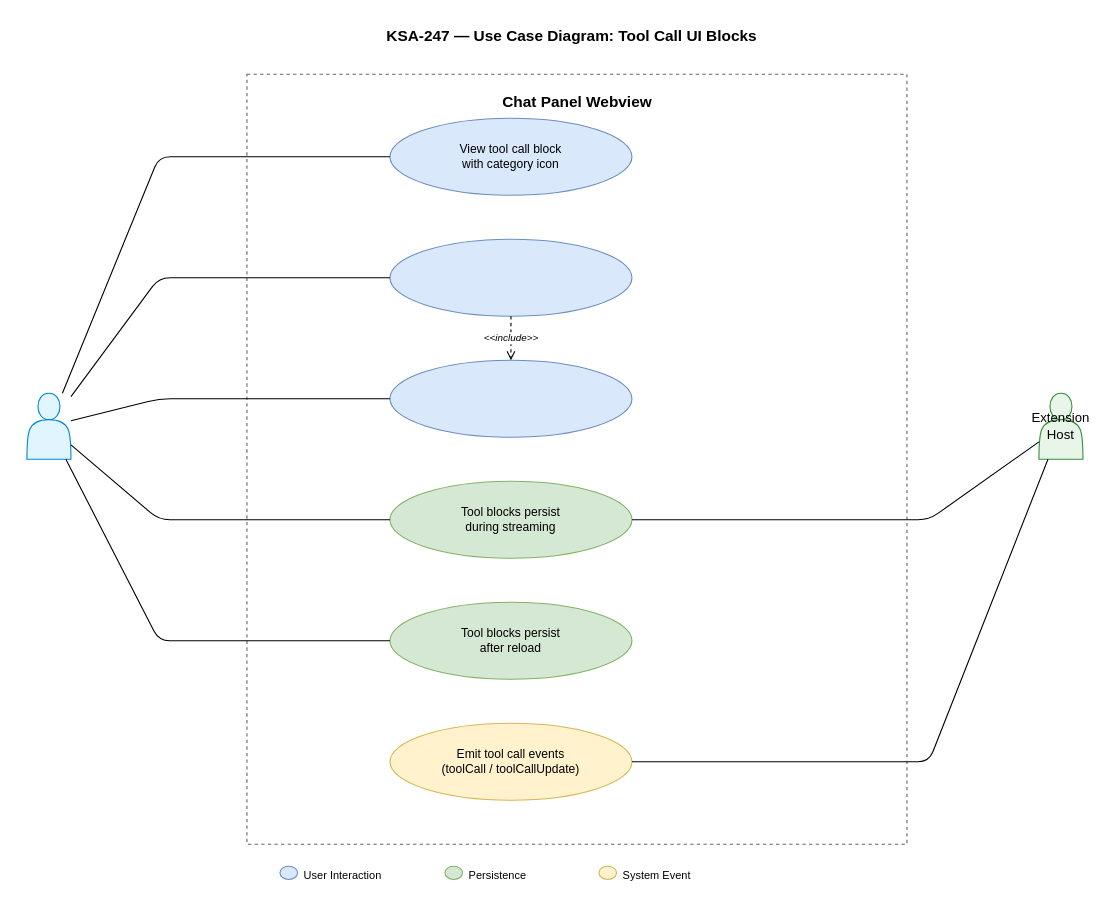
Image size: 1109x902. Some labels were removed from this diagram. The centre of each missing label's shape, as x and y in pixels:
Developer: the point at 48,425
Expand/Collapse tool call block: the point at 510,277
View tool call args and result: the point at 510,398
